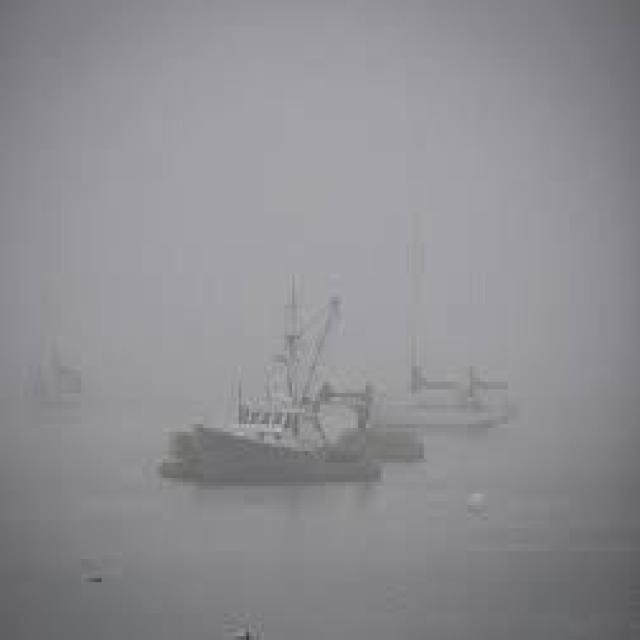cargoship: (171, 336, 399, 495)
